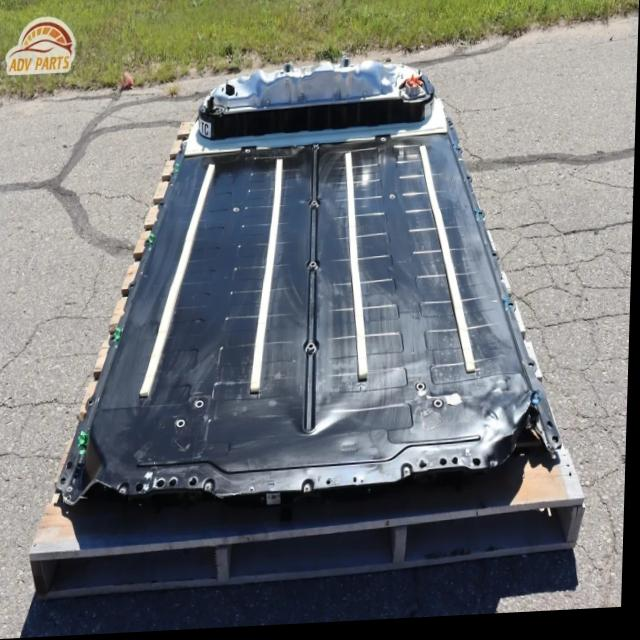Nut: (304, 338, 326, 368), (402, 80, 424, 106), (307, 134, 323, 158), (308, 199, 326, 216), (338, 54, 353, 74), (306, 257, 321, 276), (280, 62, 293, 78)
Screw: (174, 411, 192, 452), (376, 129, 390, 155), (189, 395, 208, 414), (413, 377, 428, 399), (434, 398, 448, 418), (229, 201, 243, 220), (385, 190, 400, 206), (242, 142, 252, 163)
